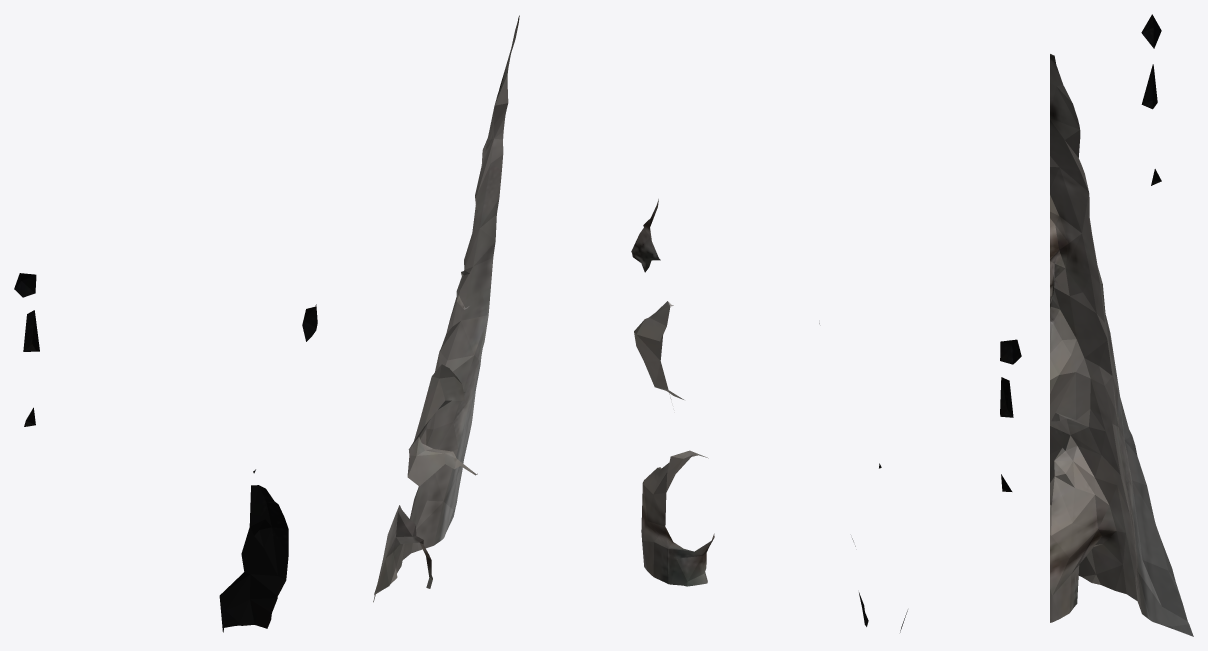
The picture shows the model from 3 angles, left to right: view 1: azimuth 30°, elevation 25°; view 2: azimuth 150°, elevation 25°; view 3: azimuth 270°, elevation 25°; orthographic projection. The views are drawn at different scales.
Bounding box in the file's own units: 0.552 × 0.6356 × 0.142.
1 material, 1 textured.
